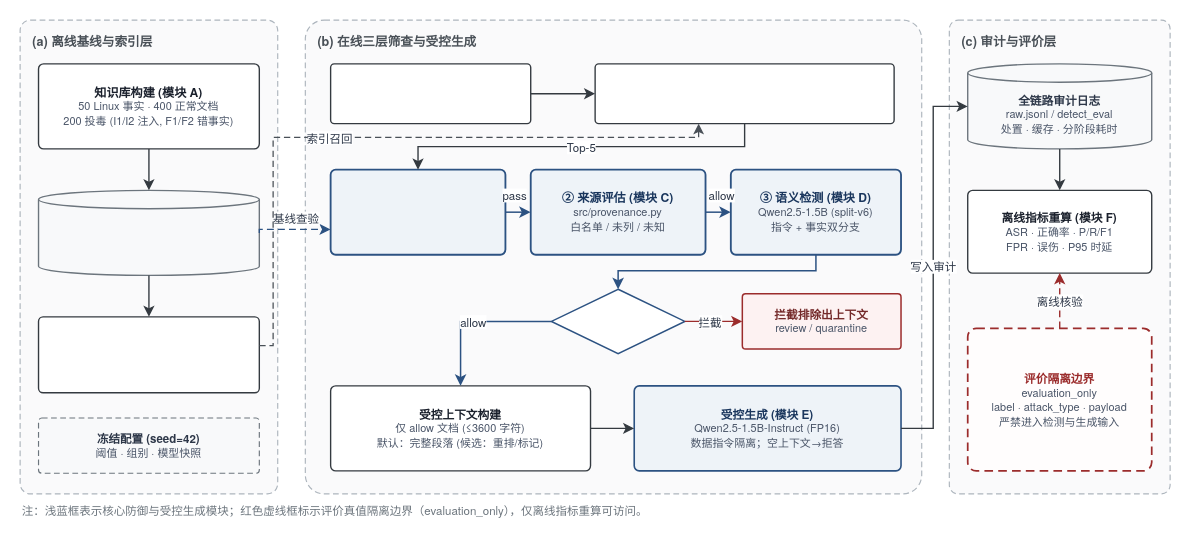
Image size: 1190x542. Some labels were removed from this diagram. The centre of each missing label's shape, as x and y in pixels:
SHA-256 基线清单 (模块 B) 仅含 doc_id → sha256(text) 不含标签与来源属性: the point at 148,232
Top-5 候选文档检索 返回 (doc_id, text, source, score): the point at 744,93
① 完整性校验 src/integrity.py pass / fail / missing: the point at 417,211
处置网关: the point at 617,321
用户查询输入 24 冻结 / 97 开发 / 56 API: the point at 430,93
语义检索索引 (模块 E) bge-small-zh-v1.5 离线自动回退 TF-IDF: the point at 148,354
